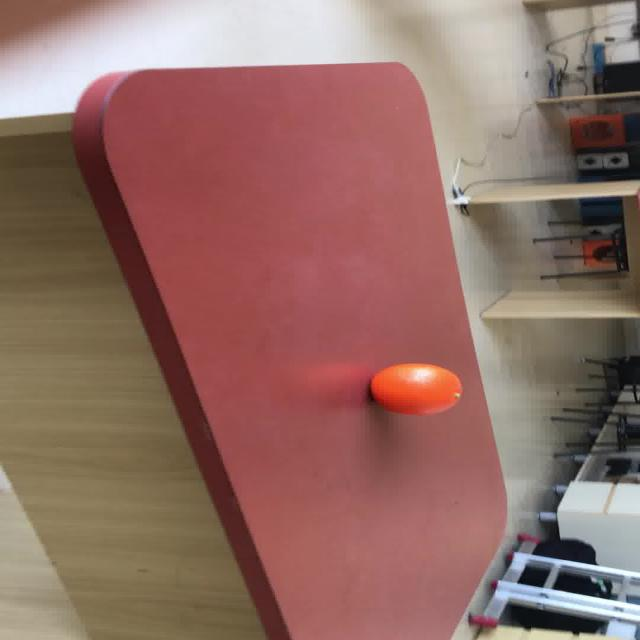orange: (369, 362, 462, 415)
